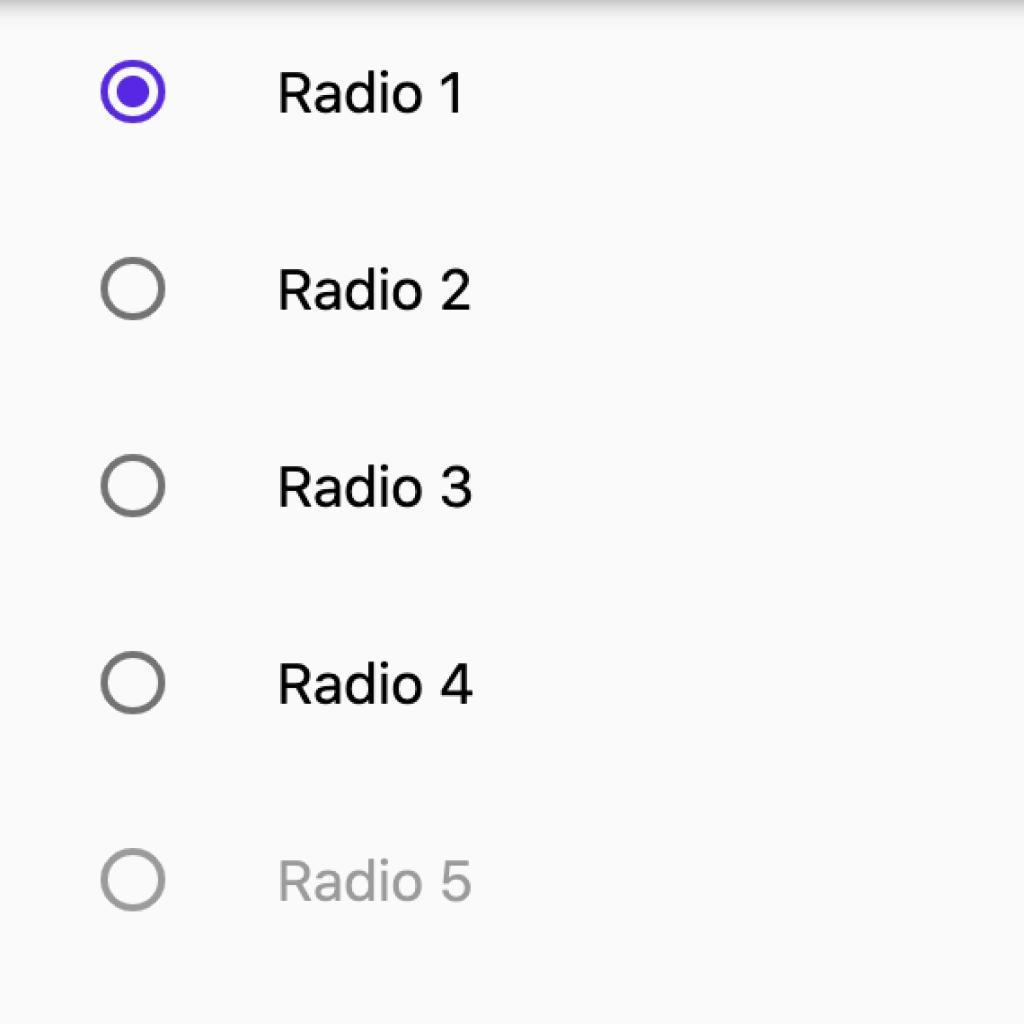radio: (100, 452, 168, 519), (100, 59, 168, 125), (99, 848, 168, 913), (100, 257, 167, 322), (101, 653, 167, 716)
